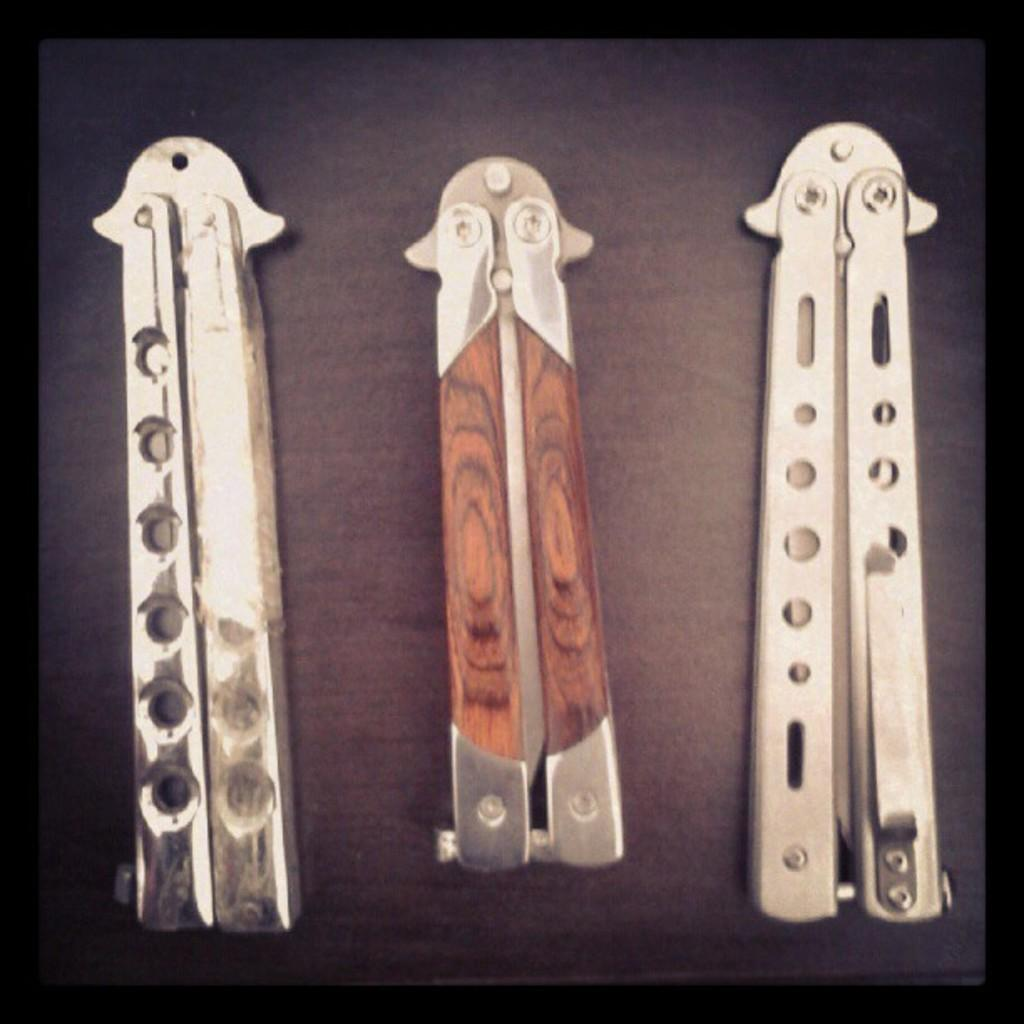Knife: (89, 125, 308, 947), (740, 115, 955, 930), (398, 147, 627, 877)
